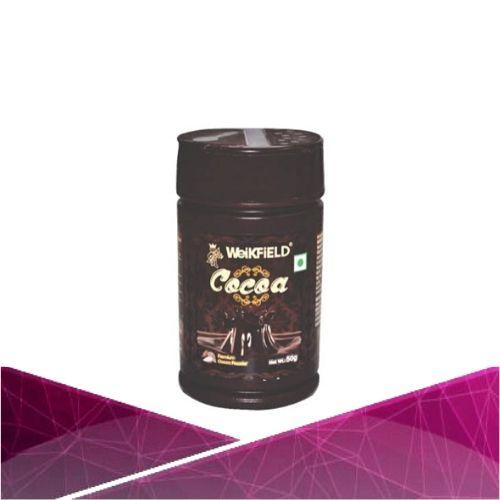Cocoa Powder: (176, 126, 336, 417)
